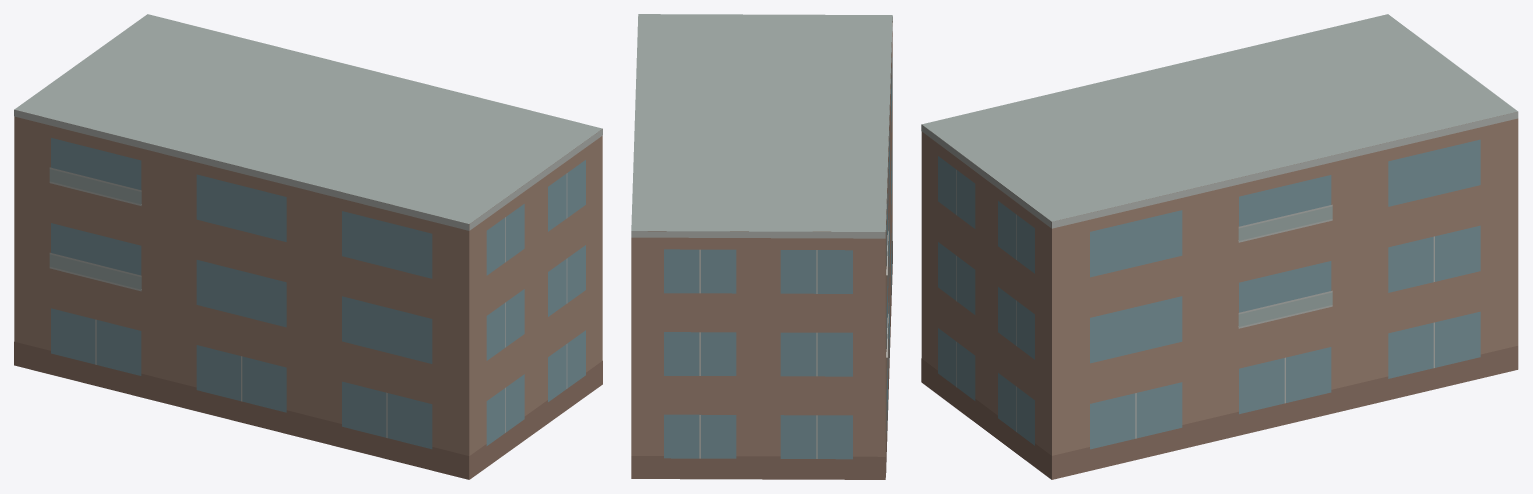
The model's file is survey-upis-32705843.glb.
The picture shows the model from 3 angles, left to right: view 1: azimuth 30°, elevation 25°; view 2: azimuth 150°, elevation 25°; view 3: azimuth 270°, elevation 25°; orthographic projection. The views are drawn at different scales.
Parts seen in each view (by area): view 1: survey-upis-32705843.tmp; view 2: survey-upis-32705843.tmp; view 3: survey-upis-32705843.tmp.
Part boxes in pixels (<box>): survey-upis-32705843.tmp: <box>14,14,602,479</box>; survey-upis-32705843.tmp: <box>631,14,892,479</box>; survey-upis-32705843.tmp: <box>921,14,1518,479</box>.
Size of the model in its own units: 15.81 by 9.15 by 19.19.
